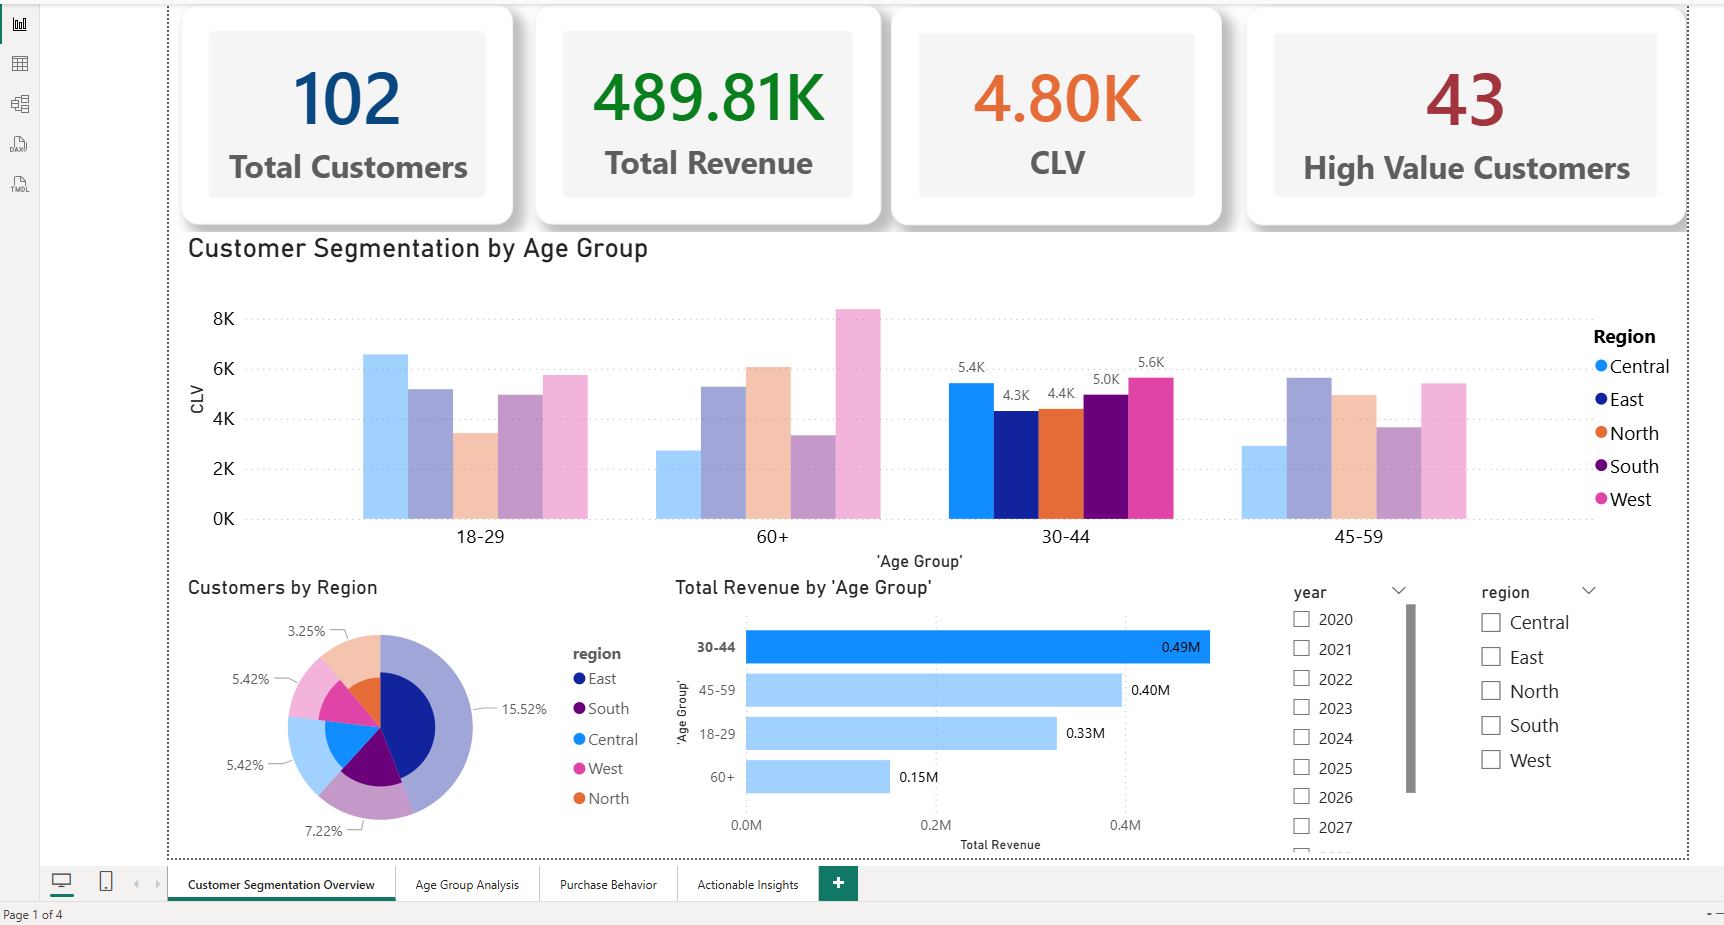

Layout of this report page (visuals, bound fields, positions):
{"tool":"powerbi","page":{"name":"Customer Segmentation Overview","canvas":[1280,720],"ordinal":0},"visuals":[{"type":"cardVisual","fields":{"Data":["dim_customers.Total Customers"]},"box":[10.4,0,280.3,186.3],"z":0},{"type":"cardVisual","fields":{"Data":["dim_customers.Total Revenue"]},"box":[308.8,0,291.5,186.3],"z":1000},{"type":"cardVisual","fields":{"Data":["dim_customers.CLV"]},"box":[608.9,1.7,279.5,184.6],"z":2000},{"type":"cardVisual","fields":{"Data":["dim_customers.High Value Customers"]},"box":[908.2,1.7,370.9,184.6],"z":3000},{"type":"clusteredColumnChart","title":"Customer Segmentation by Age Group","fields":{"Category":["dim_customers.'Age Group'"],"Y":["dim_customers.CLV"],"Series":["dim_customers.region"]},"box":[11.2,192.3,1268.8,289.8],"z":4000},{"type":"pieChart","title":"Customers by Region","fields":{"Category":["dim_customers.region"],"Y":["dim_customers.Total Customers"]},"box":[10.7,481.8,399.4,238.2],"z":5000},{"type":"barChart","fields":{"Category":["dim_customers.'Age Group'"],"Y":["dim_customers.Total Revenue"]},"box":[421.8,481.8,513.1,238.2],"z":6000},{"type":"slicer","fields":{"Values":["dim_dates.year"]},"box":[934.9,482.7,120.9,237.3],"z":7000},{"type":"slicer","fields":{"Values":["dim_customers.region"]},"box":[1093.4,482.7,122.7,237.3],"z":8000}]}

Visuals, with their boxes on the page's 1280x720 design canvas (x1, y1, x2, y2). These are canvas units, not pixel positions in the 1724x925 screenshot, which may show the page scaled, cropped or inside an application window:
cardVisual - dim_customers.Total Customers: Rect(10, 0, 291, 186)
cardVisual - dim_customers.Total Revenue: Rect(309, 0, 600, 186)
cardVisual - dim_customers.CLV: Rect(609, 2, 888, 186)
cardVisual - dim_customers.High Value Customers: Rect(908, 2, 1279, 186)
"Customer Segmentation by Age Group" clusteredColumnChart: Rect(11, 192, 1280, 482)
"Customers by Region" pieChart: Rect(11, 482, 410, 720)
barChart - dim_customers.'Age Group' x dim_customers.Total Revenue: Rect(422, 482, 935, 720)
slicer - dim_dates.year: Rect(935, 483, 1056, 720)
slicer - dim_customers.region: Rect(1093, 483, 1216, 720)
